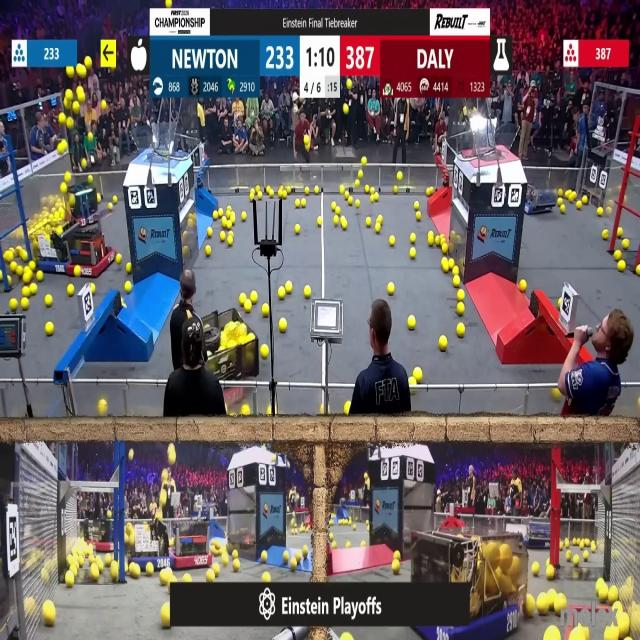ball_airborne: (169, 445, 177, 465), (76, 90, 85, 104), (161, 491, 169, 506), (76, 65, 85, 78), (59, 142, 67, 154), (66, 90, 74, 102), (67, 66, 75, 78), (86, 58, 94, 70), (65, 172, 72, 185), (68, 196, 76, 207), (67, 116, 74, 128), (60, 112, 67, 124), (154, 512, 162, 522), (72, 102, 79, 113), (163, 469, 170, 480), (61, 182, 68, 193), (65, 99, 71, 110), (344, 104, 349, 115), (305, 136, 311, 145), (81, 160, 86, 170), (89, 134, 94, 144), (166, 0, 172, 8), (130, 450, 134, 461), (100, 98, 104, 108), (90, 176, 94, 184)
ball_ground: (43, 604, 55, 628), (162, 605, 172, 630), (525, 597, 536, 618), (554, 596, 566, 613), (596, 582, 605, 602), (546, 628, 561, 640), (99, 401, 108, 418), (162, 569, 172, 584), (110, 564, 119, 580), (131, 564, 141, 578), (66, 572, 75, 587), (608, 588, 617, 603), (92, 565, 100, 580), (457, 323, 465, 337), (414, 367, 422, 381), (392, 561, 400, 575), (545, 566, 553, 580), (207, 569, 216, 581), (409, 316, 417, 329), (554, 388, 562, 401), (441, 338, 448, 352), (146, 563, 154, 575), (45, 322, 53, 334), (457, 304, 465, 316), (10, 300, 18, 312), (262, 346, 270, 358), (278, 287, 286, 299), (262, 552, 270, 564), (24, 272, 32, 284), (279, 319, 286, 332), (569, 631, 579, 640), (264, 571, 272, 582), (250, 291, 258, 302), (242, 407, 250, 418), (73, 267, 81, 278), (244, 302, 252, 313), (305, 286, 312, 298), (388, 282, 395, 294), (44, 294, 51, 306), (234, 560, 241, 572), (126, 281, 133, 293), (532, 563, 539, 575), (622, 240, 630, 250), (22, 300, 30, 310), (264, 305, 270, 318), (344, 404, 350, 417), (619, 262, 626, 273), (457, 289, 464, 300), (285, 282, 292, 293), (213, 564, 220, 575), (68, 284, 74, 296), (520, 280, 526, 292), (428, 234, 434, 246), (183, 573, 191, 582), (106, 554, 112, 566), (30, 284, 37, 294), (602, 231, 609, 241), (453, 277, 460, 287), (36, 272, 43, 282), (616, 250, 623, 260), (388, 237, 395, 247), (24, 286, 31, 296), (443, 256, 450, 266), (569, 191, 576, 201), (221, 556, 228, 566), (22, 251, 29, 261), (240, 293, 246, 304), (290, 559, 296, 570), (316, 217, 323, 226), (331, 215, 338, 224), (233, 551, 240, 560), (410, 377, 417, 386), (395, 172, 402, 181), (219, 217, 226, 226), (411, 248, 417, 258), (411, 234, 417, 244), (220, 232, 226, 242), (127, 264, 133, 274), (206, 246, 212, 256), (443, 244, 449, 254), (342, 218, 348, 228), (10, 264, 16, 274), (434, 236, 440, 246), (572, 556, 578, 566), (16, 267, 22, 277), (295, 551, 301, 561), (596, 208, 603, 216), (557, 198, 564, 206), (565, 554, 572, 562), (301, 201, 309, 208), (284, 552, 289, 563), (226, 237, 232, 246), (394, 552, 400, 561), (376, 223, 382, 232), (444, 265, 450, 274), (618, 229, 624, 238), (365, 217, 371, 226), (213, 212, 219, 221), (30, 262, 36, 271), (225, 219, 231, 228), (294, 223, 299, 233), (585, 552, 590, 562), (218, 208, 223, 218), (24, 267, 31, 274), (560, 206, 566, 214), (416, 212, 422, 220), (575, 202, 581, 210), (377, 215, 383, 223), (336, 207, 342, 215), (348, 198, 354, 206), (454, 268, 460, 276), (343, 634, 351, 640), (449, 258, 455, 266), (226, 230, 232, 238), (242, 212, 247, 221), (415, 202, 420, 211), (182, 247, 187, 256), (373, 194, 378, 203), (97, 193, 102, 202), (304, 544, 309, 553), (225, 209, 230, 218), (314, 186, 320, 193), (269, 190, 275, 197), (558, 188, 564, 195), (368, 186, 374, 193), (116, 254, 121, 262), (355, 200, 360, 208), (636, 266, 640, 276), (331, 203, 336, 211), (426, 187, 431, 195), (584, 197, 589, 205), (364, 184, 369, 192), (319, 408, 324, 416), (341, 185, 346, 193), (355, 183, 360, 191), (361, 158, 366, 166), (93, 284, 97, 293), (0, 272, 4, 281), (331, 541, 336, 548), (393, 186, 398, 193), (108, 204, 113, 211), (361, 540, 366, 547), (232, 217, 237, 224), (282, 191, 287, 198), (358, 171, 363, 178), (268, 410, 273, 417), (208, 230, 212, 238), (257, 191, 261, 199), (345, 190, 349, 198), (560, 541, 564, 549), (293, 530, 297, 538), (592, 543, 596, 551), (295, 201, 299, 208), (250, 193, 254, 200), (306, 187, 310, 194), (113, 195, 117, 202), (347, 541, 351, 547), (353, 524, 356, 530)
goal: (464, 120, 521, 160), (130, 131, 188, 160)
robot_blue: (416, 534, 525, 640), (31, 210, 72, 276), (128, 518, 176, 571), (523, 180, 554, 214), (524, 519, 551, 549)
robot_red: (205, 311, 259, 405), (68, 224, 114, 278), (172, 521, 212, 569), (84, 517, 118, 552)
